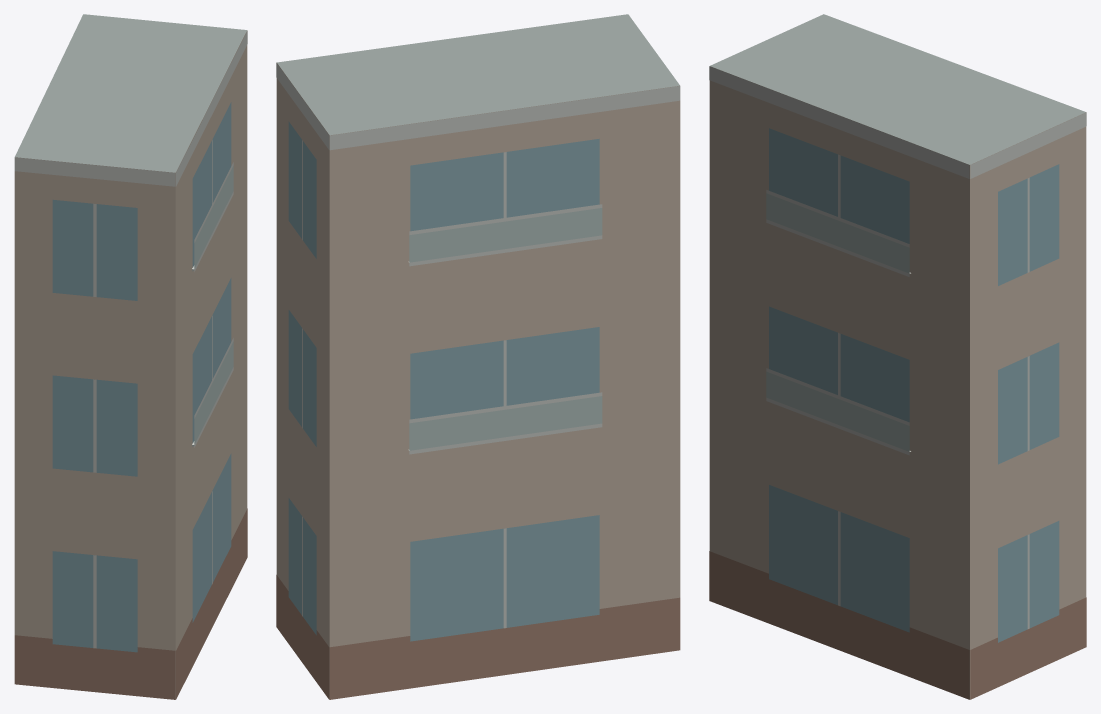
The model's file is survey-upis-32477111.glb.
3 views of the same model, side by side, from view 1: azimuth 30°, elevation 25°; view 2: azimuth 150°, elevation 25°; view 3: azimuth 270°, elevation 25° (orthographic). The views are drawn at different scales.
Visible parts, largest first — view 1: survey-upis-32477111.tmp; view 2: survey-upis-32477111.tmp; view 3: survey-upis-32477111.tmp.
Boxes of the visible parts, box(x1,y1,x2,y2) form: survey-upis-32477111.tmp: box(14, 14, 247, 699); survey-upis-32477111.tmp: box(276, 14, 680, 699); survey-upis-32477111.tmp: box(709, 14, 1086, 699).
Bounding box in the file's own units: 5.55 × 9.15 × 5.85.
